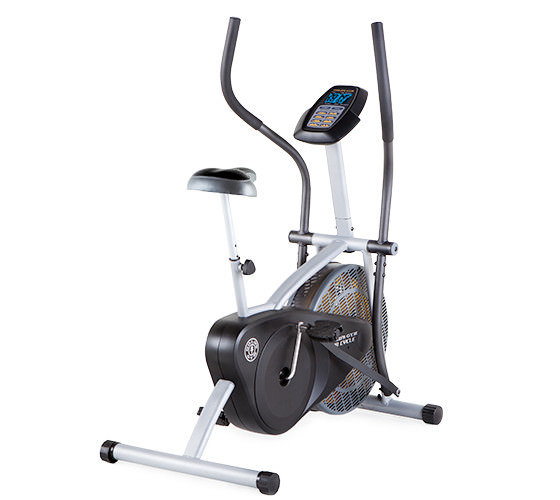gym_bike: (85, 20, 451, 490)
